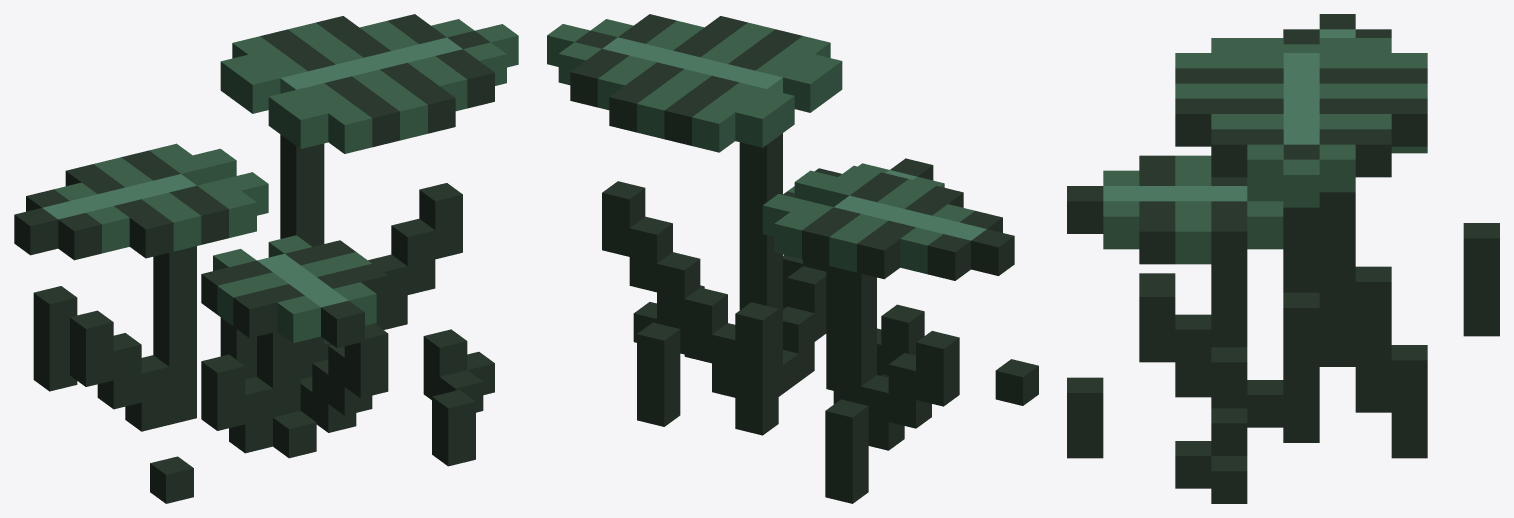
The model's file is plantes-vertes.obj.
3 views of the same model, side by side, from view 1: azimuth 30°, elevation 25°; view 2: azimuth 150°, elevation 25°; view 3: azimuth 270°, elevation 25° (orthographic). The views are drawn at different scales.
Size of the model in its own units: 1.7 by 1.1 by 1.2.
1 material, 1 textured.
